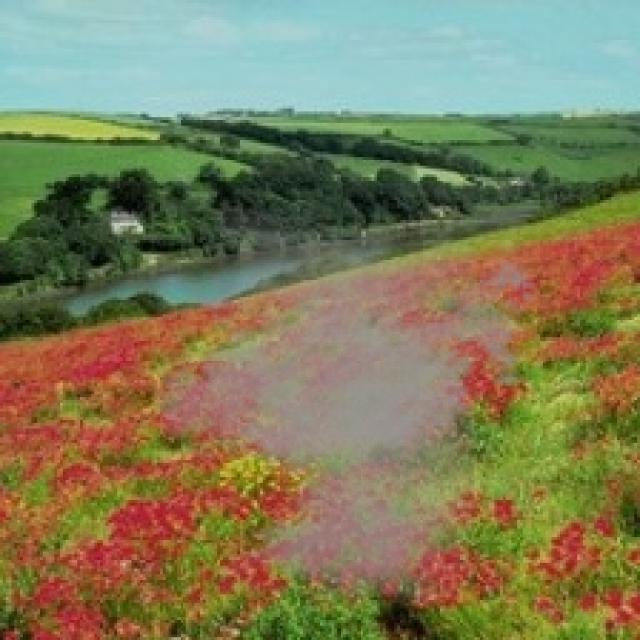smoke: (140, 205, 549, 606)
